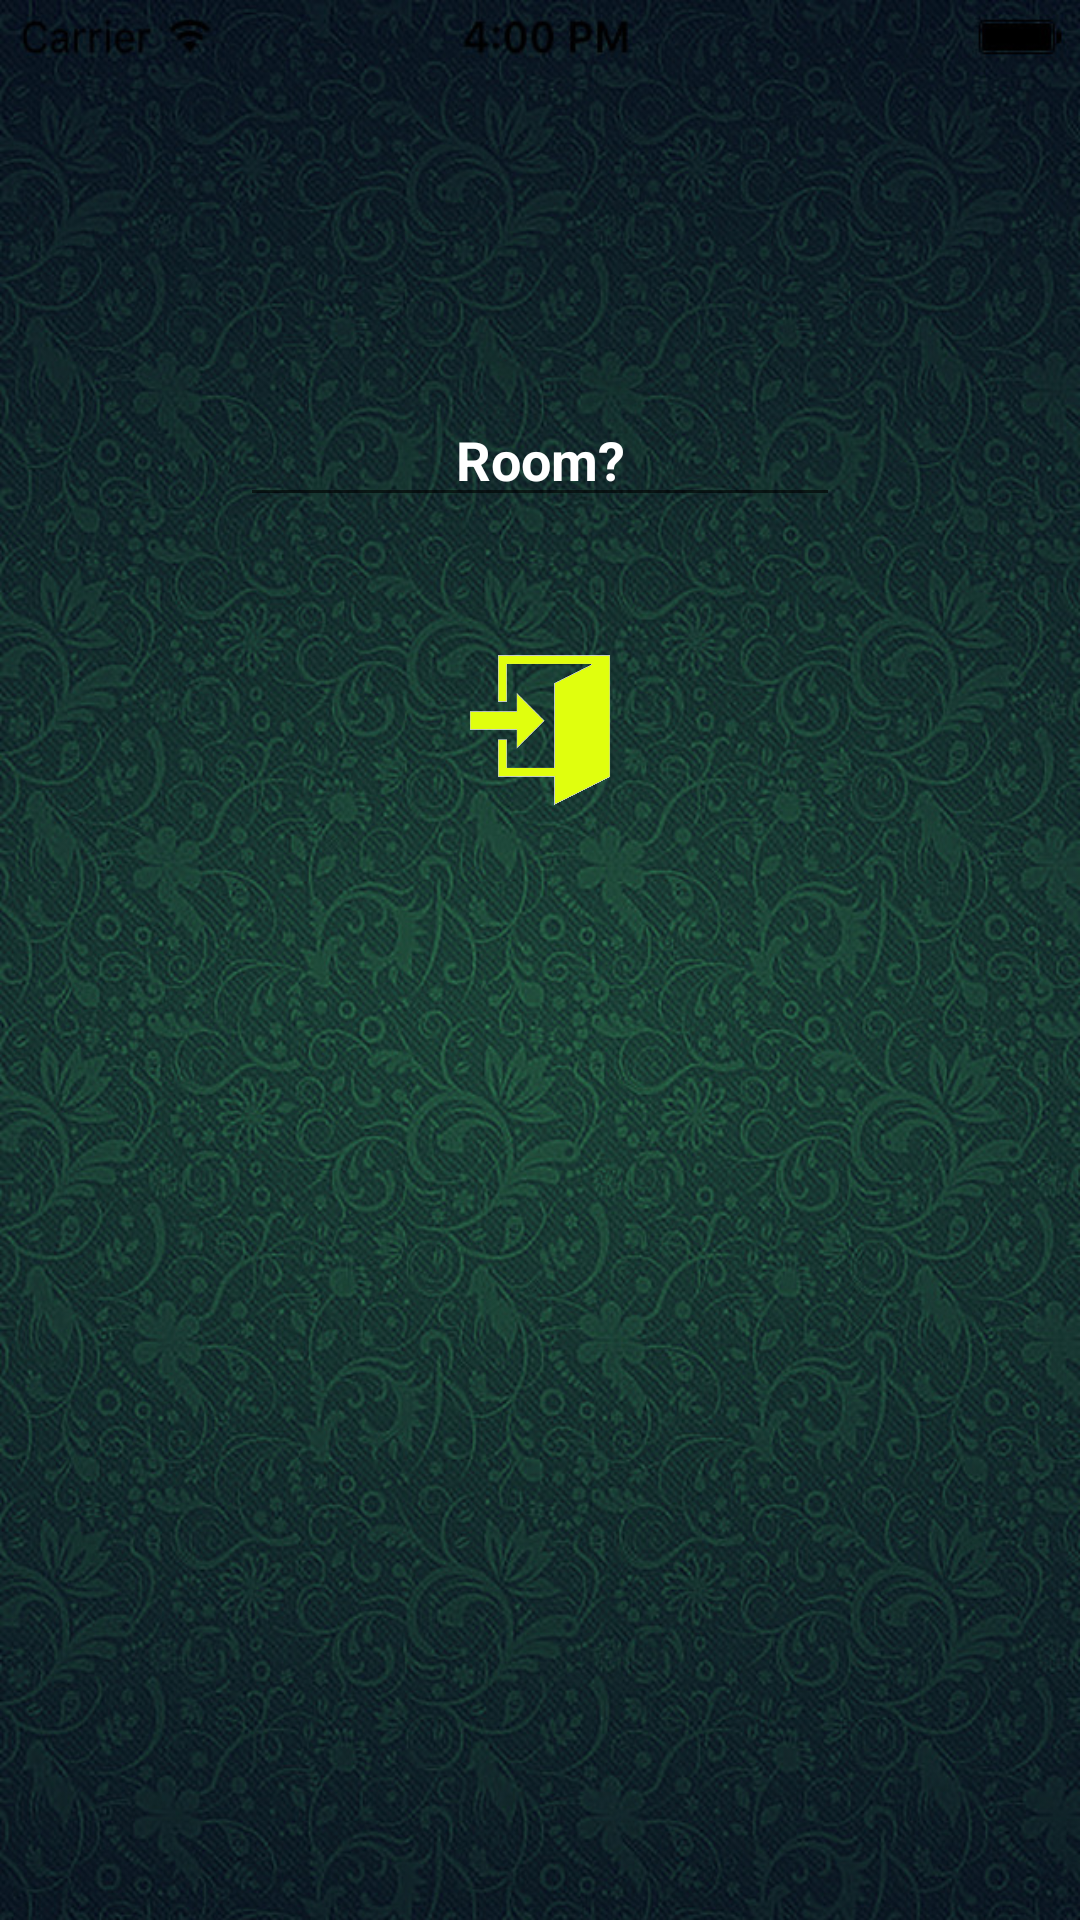

Icon click points for this 1080x1920 phone screenshot, format (x=x, y=y):
joinbutton: (x=540, y=730)
